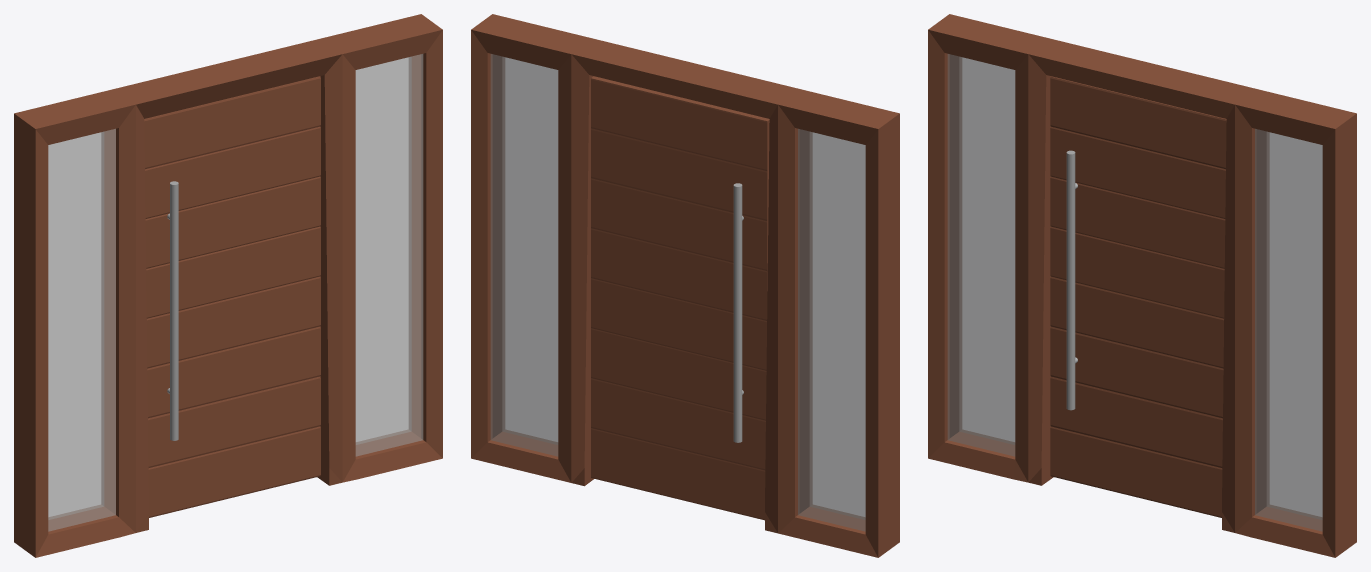
File: mainEntrance.fbx
3 renders of one model, left to right at view 1: azimuth 30°, elevation 25°; view 2: azimuth 150°, elevation 25°; view 3: azimuth 330°, elevation 25°, orthographic.
Visible parts, largest first — view 1: Cube, Cube.001; view 2: Cube, Cube.001; view 3: Cube, Cube.001.
Part boxes in pixels (left/top/right/bottom): Cube: left=14, top=14, right=442, bottom=557; Cube.001: left=144, top=76, right=320, bottom=517; Cube: left=471, top=14, right=899, bottom=557; Cube.001: left=591, top=76, right=769, bottom=520; Cube: left=928, top=14, right=1356, bottom=557; Cube.001: left=1050, top=76, right=1226, bottom=517.
Bounding box in the file's own units: 269 × 271 × 27.61.
